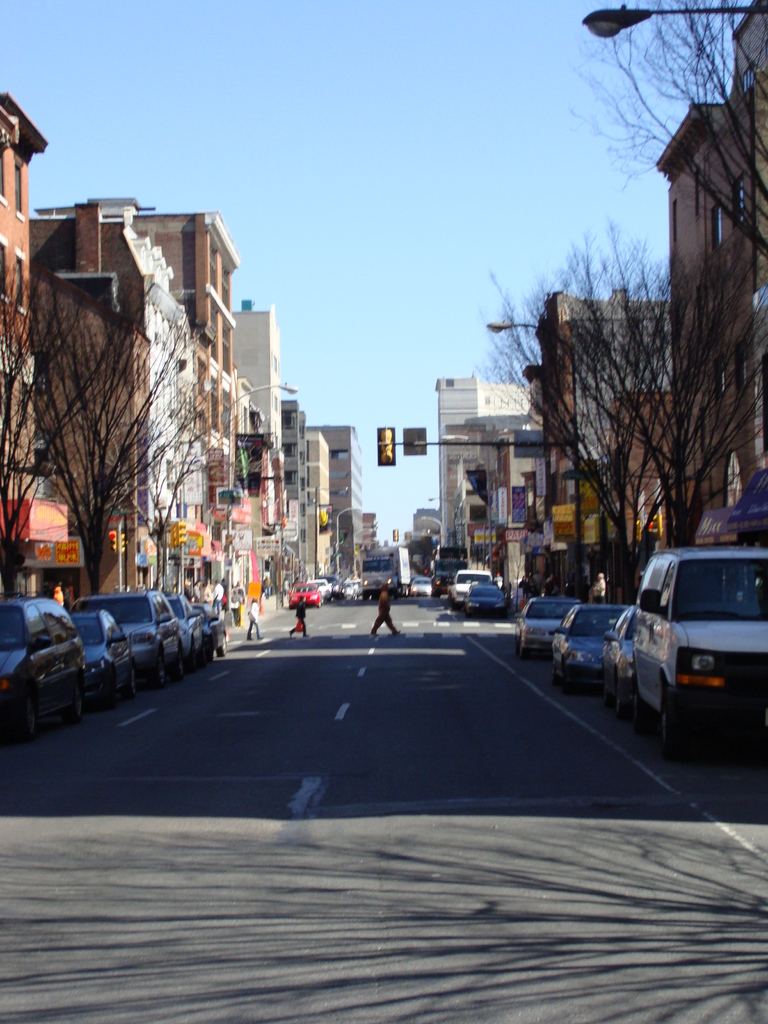Car: (281, 549, 767, 745), (0, 590, 227, 763)
